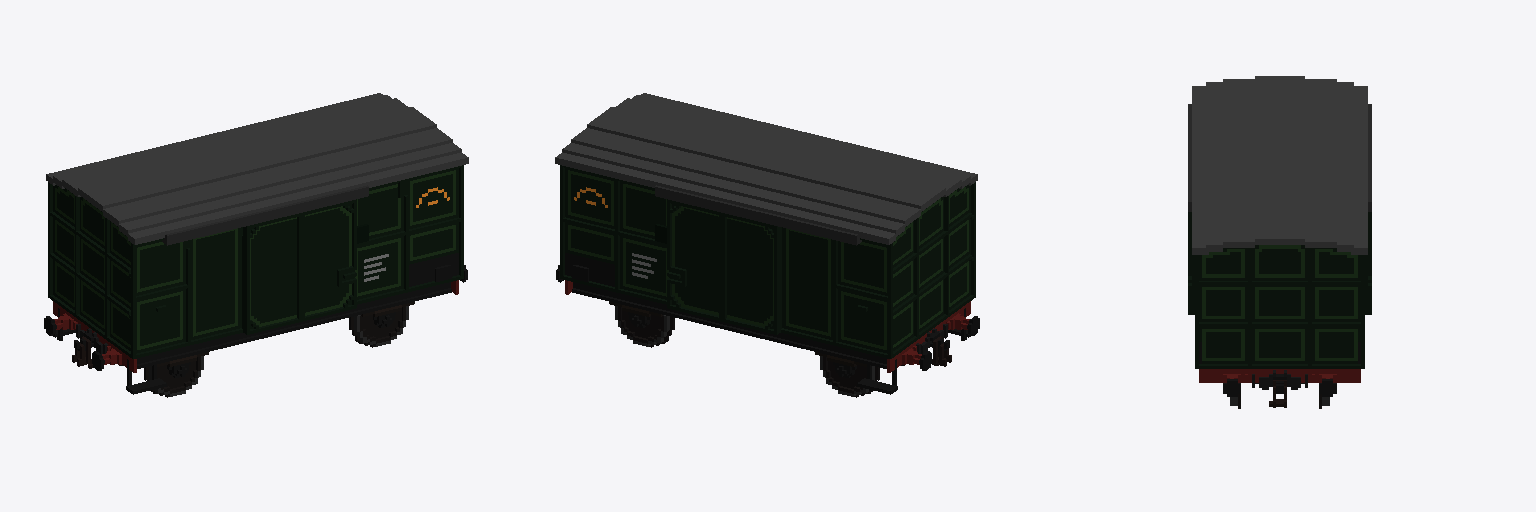
3 views of the same model, side by side, from view 1: azimuth 30°, elevation 25°; view 2: azimuth 150°, elevation 25°; view 3: azimuth 270°, elevation 25° (orthographic).
Visible parts, largest first — view 1: FRAME, FRAME_WHEEL_2, FRAME_WHEEL_1; view 2: FRAME, FRAME_WHEEL_2, FRAME_WHEEL_1; view 3: FRAME.
Part boxes in pixels (x1,y1,x2,y2): FRAME: (44, 93, 468, 394); FRAME_WHEEL_2: (349, 306, 408, 347); FRAME_WHEEL_1: (114, 356, 203, 397); FRAME: (555, 93, 979, 394); FRAME_WHEEL_2: (615, 306, 674, 347); FRAME_WHEEL_1: (820, 356, 909, 397); FRAME: (1188, 76, 1371, 407).
Size of the model in its own units: 7.5 by 3.88 by 3.25.
1 materials, 1 textured.